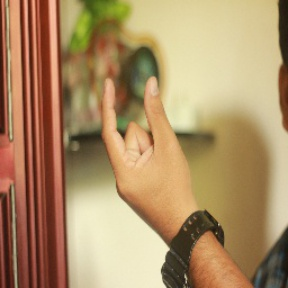U: (95, 67, 190, 205)
